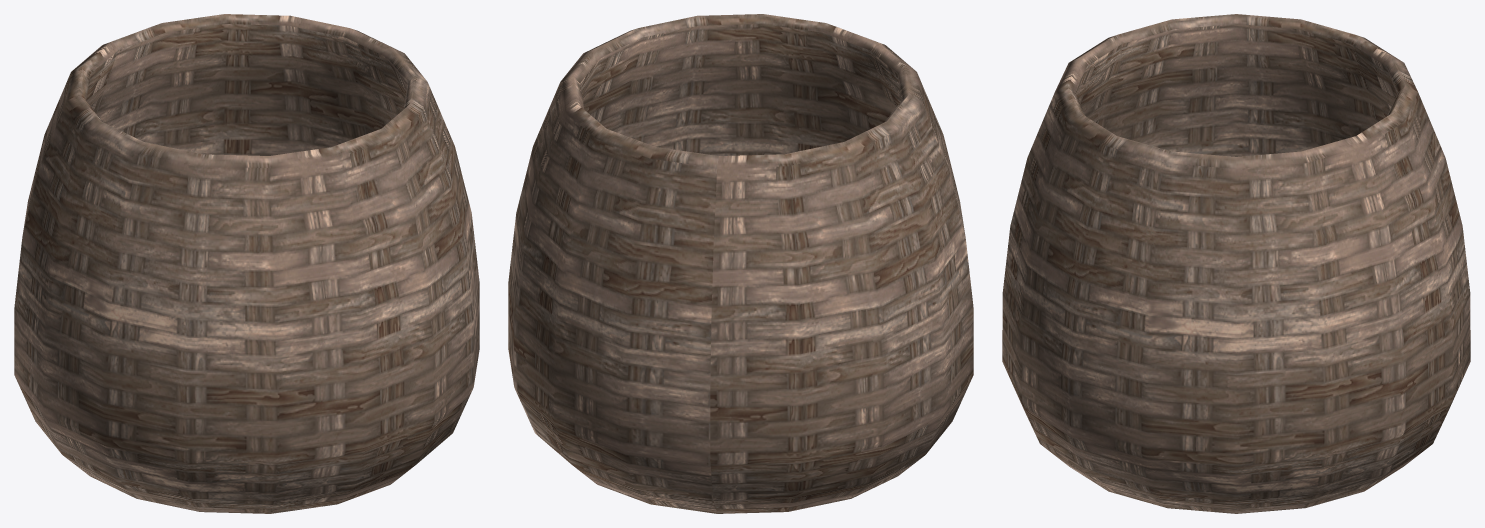
Rendered from Basket03.FBX.
The picture shows the model from 3 angles, left to right: view 1: azimuth 30°, elevation 25°; view 2: azimuth 150°, elevation 25°; view 3: azimuth 270°, elevation 25°; orthographic projection.
Visible parts, largest first — view 1: Basket03; view 2: Basket03; view 3: Basket03.
Part boxes in pixels (bbox=[...]): Basket03: bbox=[14, 14, 479, 513]; Basket03: bbox=[508, 14, 973, 513]; Basket03: bbox=[1002, 14, 1470, 513].
Bounding box in the file's own units: 14.04 × 14.04 × 11.96.
